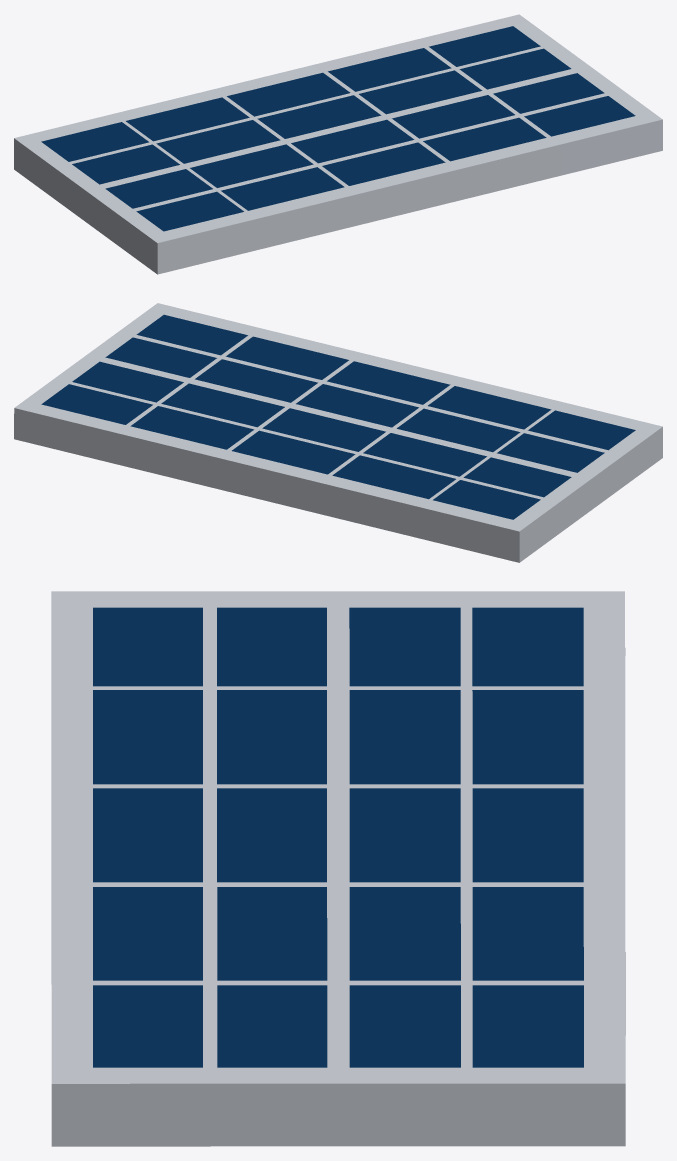
Rendered from Building_Objects_Solar_Panel.fbx.
3 views of the same model, one above another, from view 1: azimuth 30°, elevation 25°; view 2: azimuth 150°, elevation 25°; view 3: azimuth 270°, elevation 25° (orthographic). The views are drawn at different scales.
Visible parts, largest first — view 1: Building_Objects_Solar_Panel; view 2: Building_Objects_Solar_Panel; view 3: Building_Objects_Solar_Panel.
Part boxes in pixels (x1,y1,x2,y2): Building_Objects_Solar_Panel: (14,14,662,274); Building_Objects_Solar_Panel: (14,303,662,562); Building_Objects_Solar_Panel: (51,591,625,1146).
Bounding box in the file's own units: 407 × 24.44 × 200.
